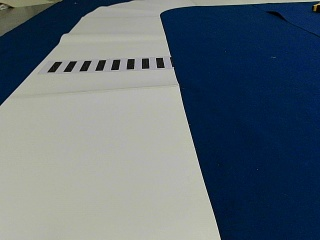crosswalk: (46, 57, 163, 72)
